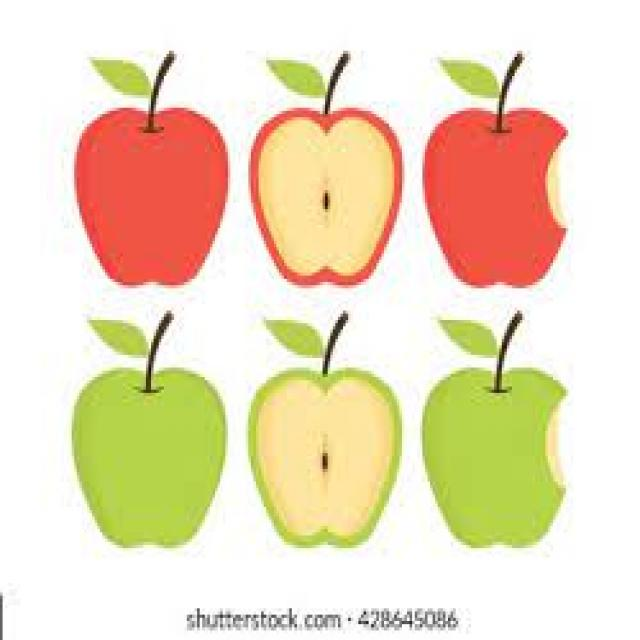Apple: (247, 364, 404, 551), (248, 104, 404, 292), (70, 367, 228, 551), (75, 105, 229, 289), (420, 105, 570, 289), (419, 371, 571, 550)
